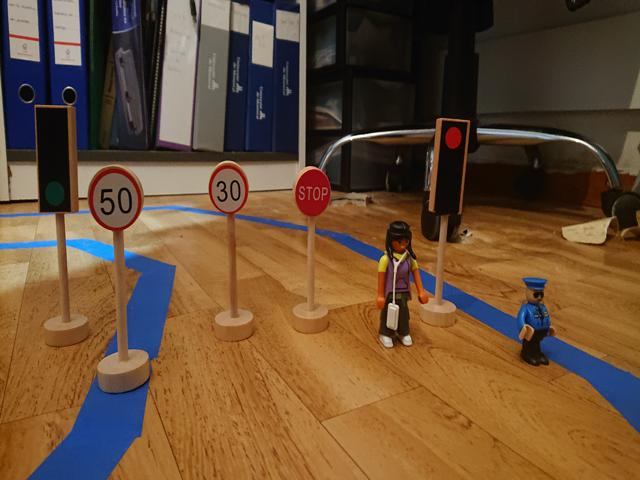30 speed sign: (210, 163, 247, 216)
50 speed sign: (90, 168, 141, 231)
green light: (37, 108, 66, 209)
person: (371, 221, 430, 352), (513, 274, 557, 367)
red light: (441, 123, 463, 206)
stop sign: (295, 167, 332, 217)
